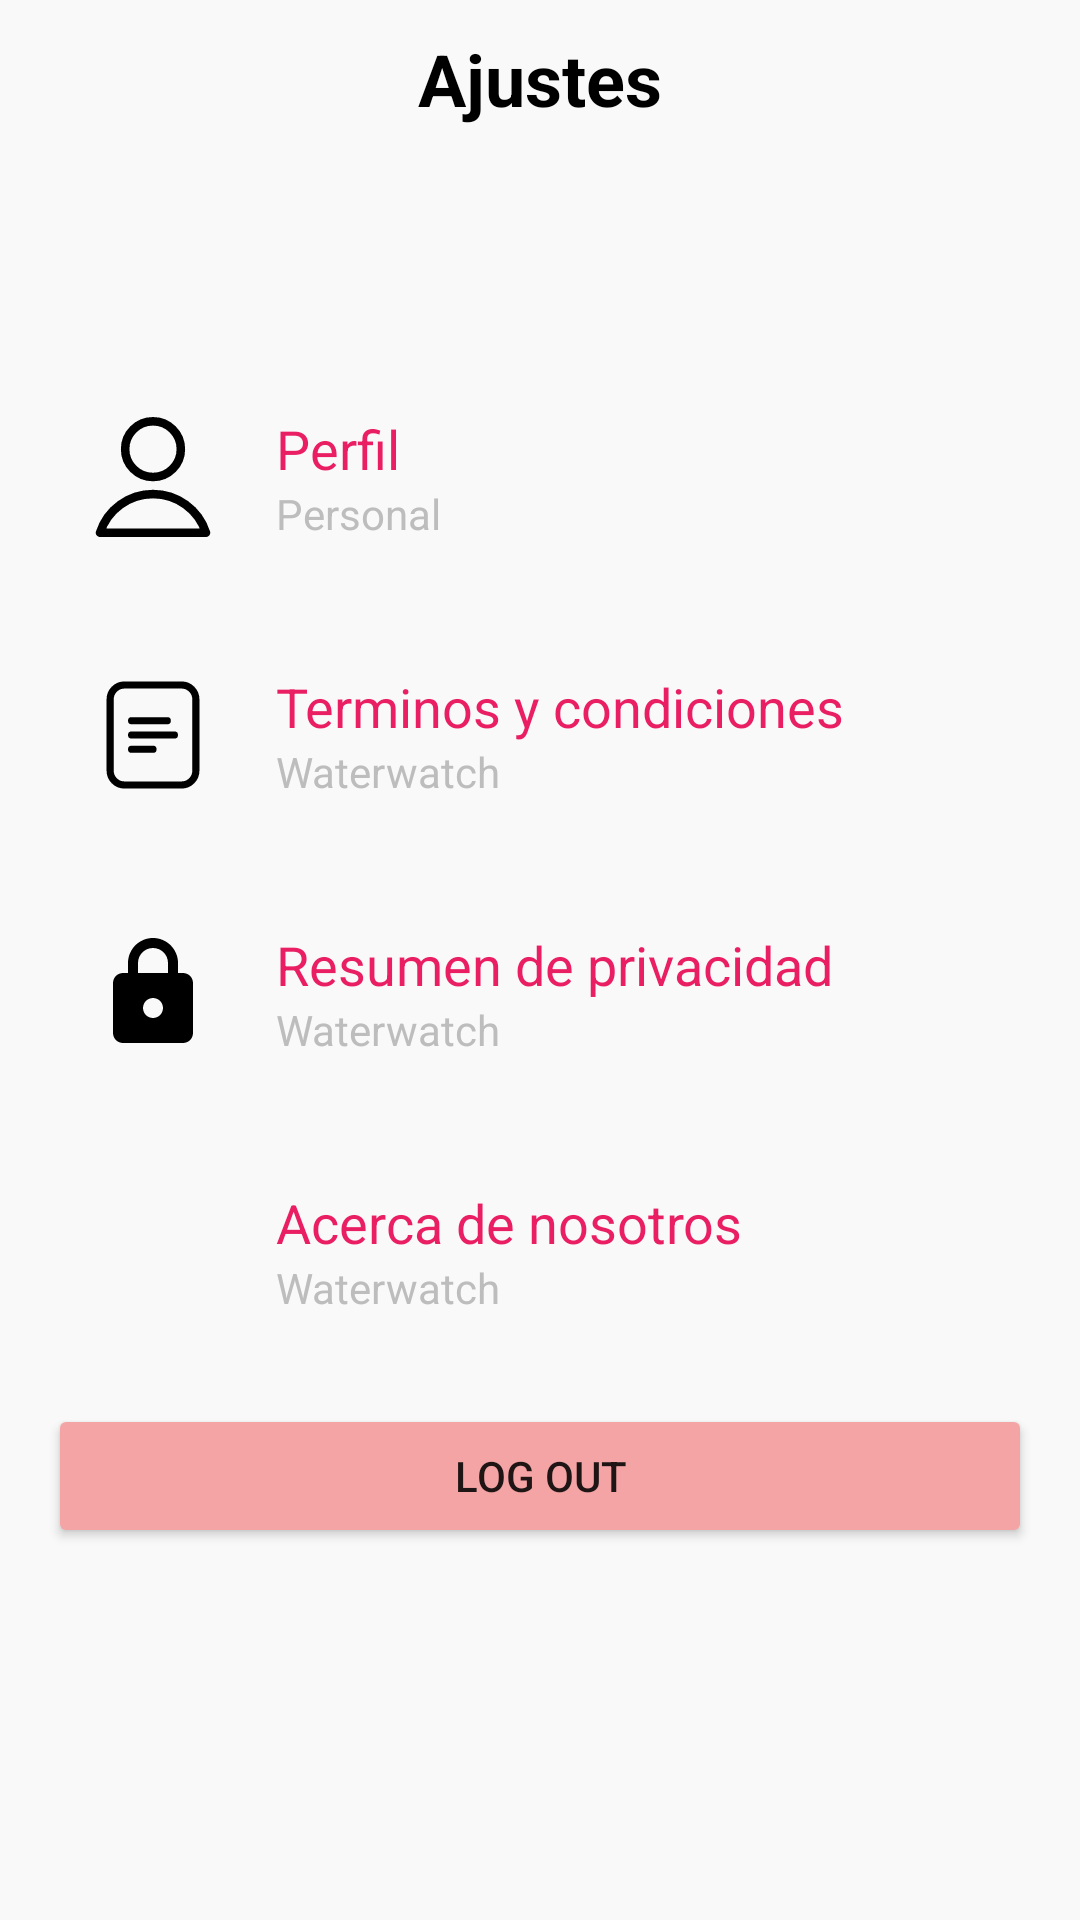

Icons on this 1080 x 1920 Android screen, each with the point to tap as [x,y]:
Privacy Summary Icon: [153,990]
profile: [153,477]
terms: [153,735]
